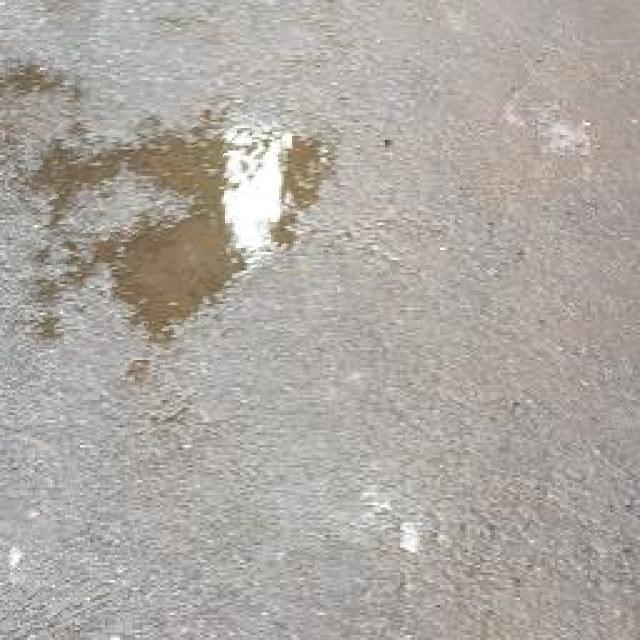puddle: (29, 121, 337, 348)
